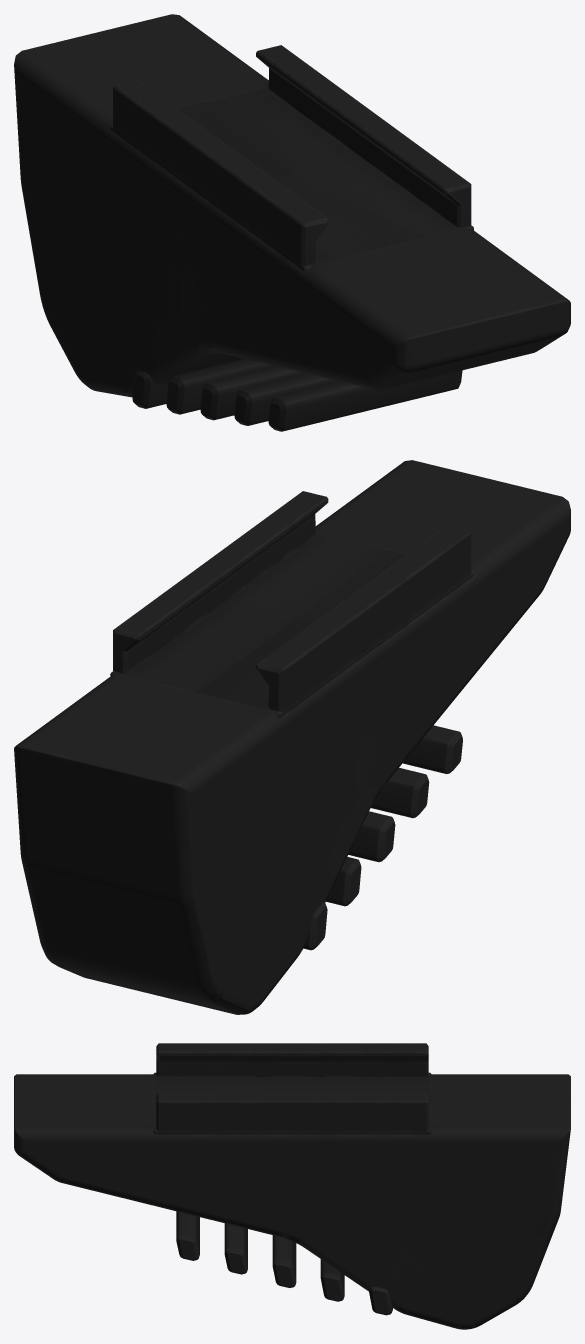
File: Grip_Angled.fbx
3 renders of one model, top to bottom at view 1: azimuth 30°, elevation 25°; view 2: azimuth 150°, elevation 25°; view 3: azimuth 270°, elevation 25°, orthographic. The views are drawn at different scales.
Parts seen in each view (by area): view 1: Body; view 2: Body; view 3: Body.
Part boxes in pixels (x1,y1,x2,y2): Body: [14, 14, 570, 431]; Body: [14, 460, 570, 1014]; Body: [14, 1043, 570, 1329].
Size of the model in its own units: 0.028 by 0.0474 by 0.104.
